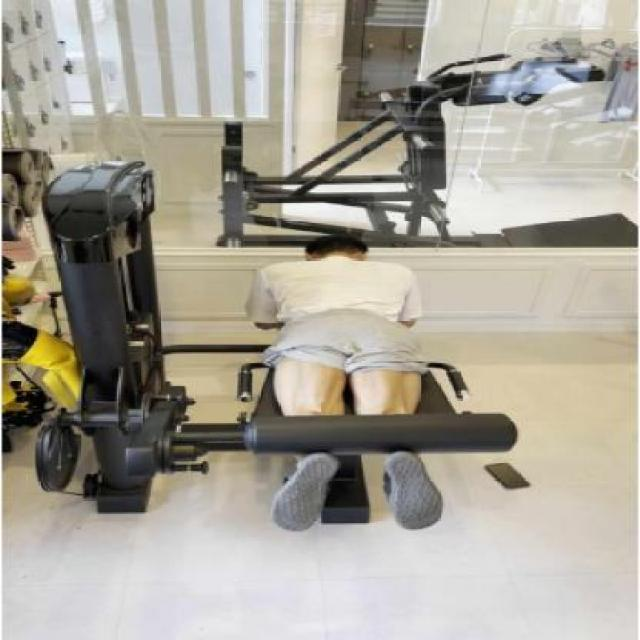reg curl machine: (19, 154, 526, 541)
